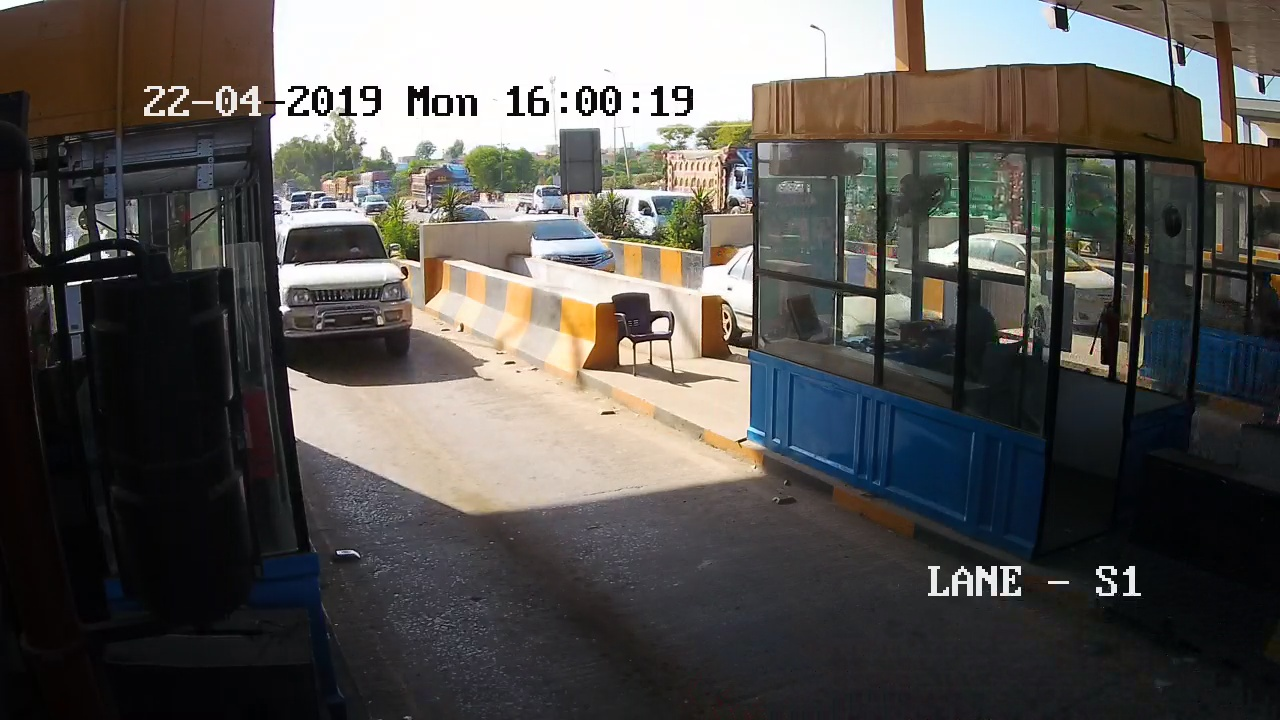car: (277, 209, 429, 385)
